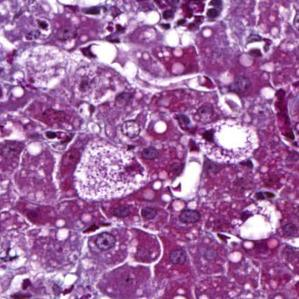ballooning: (74, 139, 149, 204), (191, 118, 261, 166), (239, 198, 284, 241)
